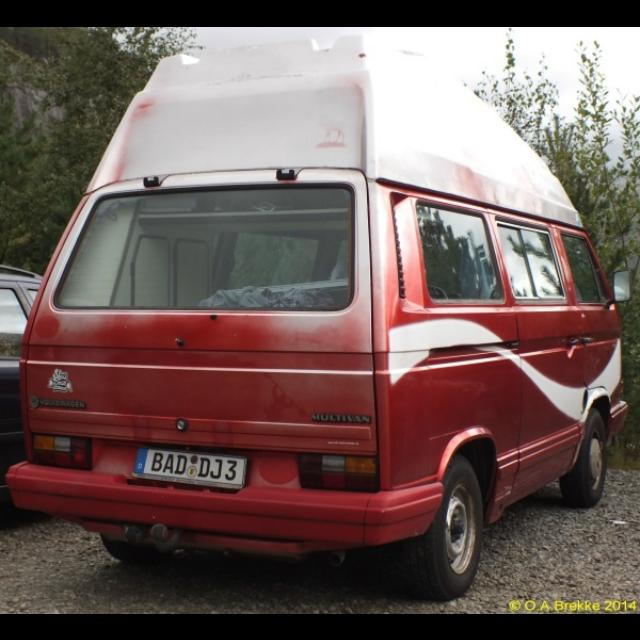d_license_plate: (133, 446, 243, 482)
